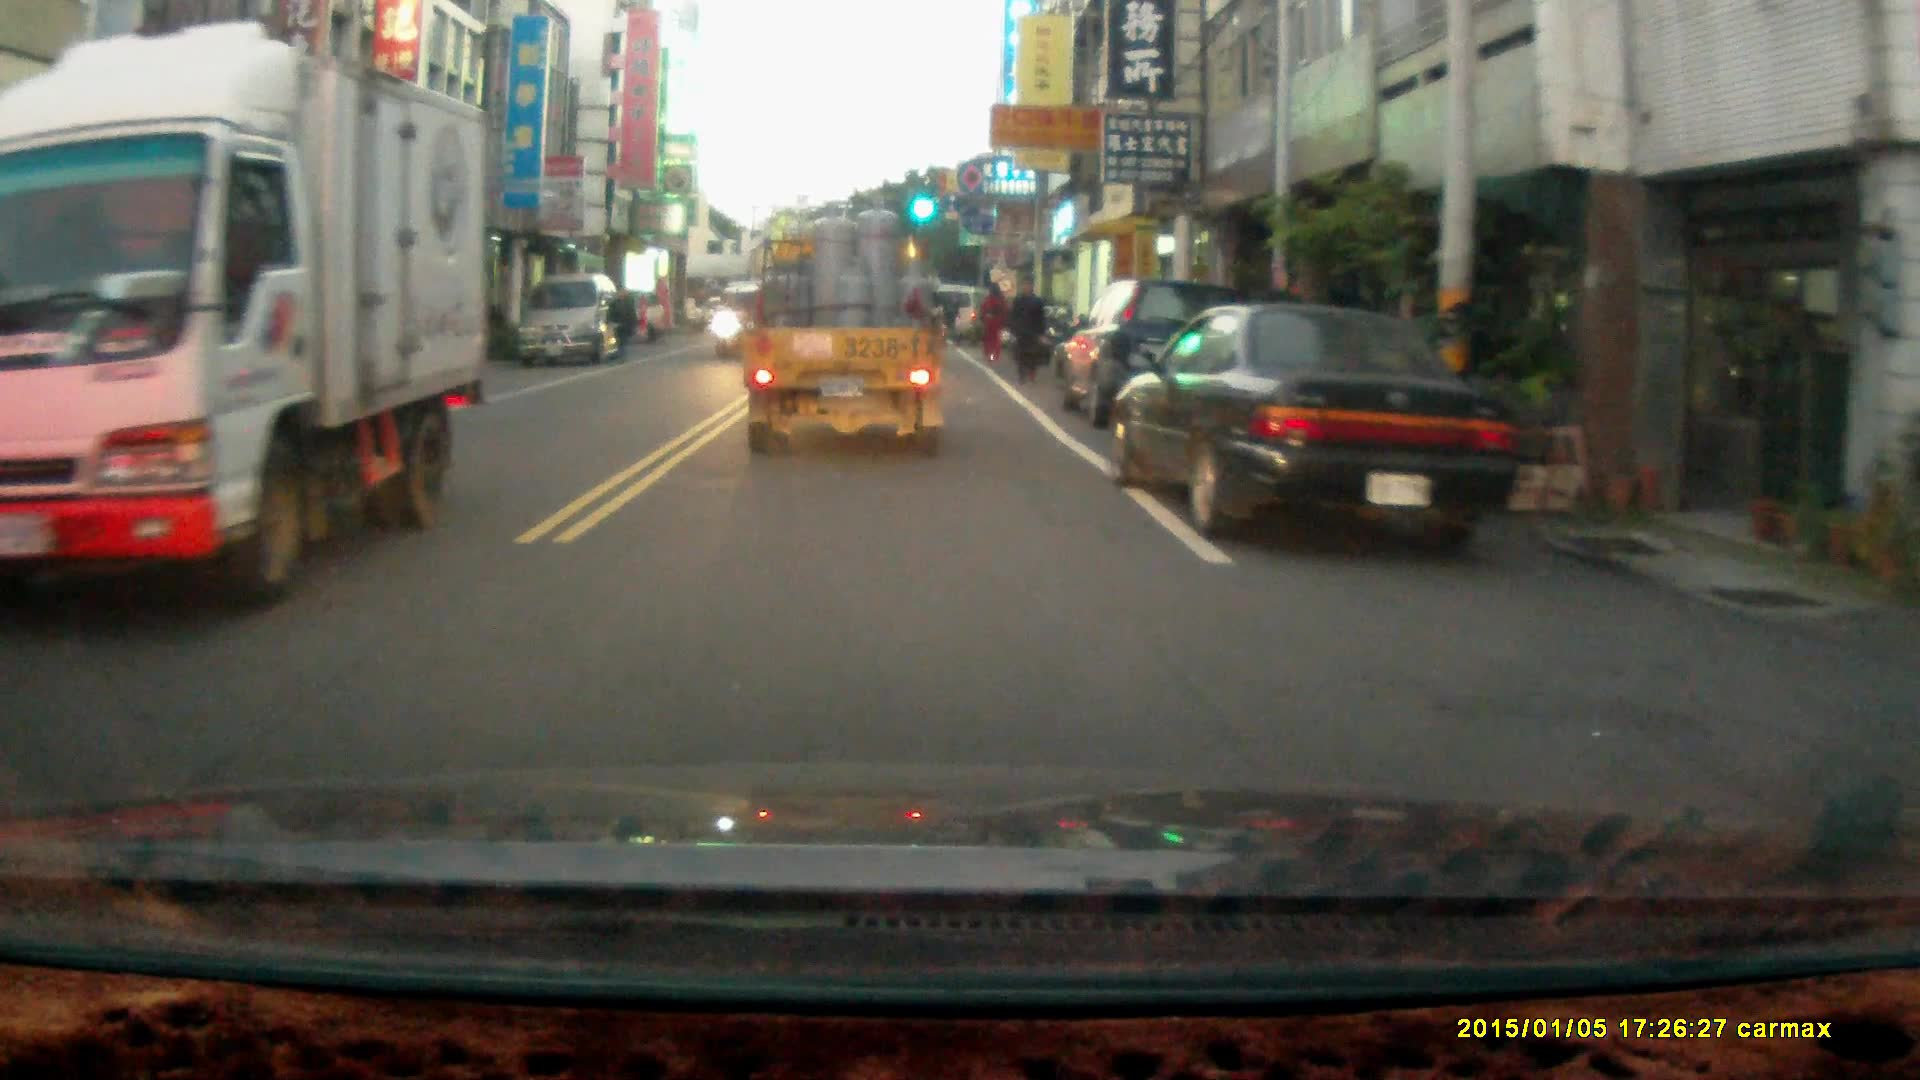pedestrian: (1005, 274, 1046, 385), (977, 280, 1013, 367), (606, 282, 637, 361)
vehicle: (1, 19, 502, 618), (1111, 306, 1523, 551), (740, 192, 953, 465), (1061, 279, 1263, 436), (517, 273, 626, 367), (707, 279, 805, 368)
